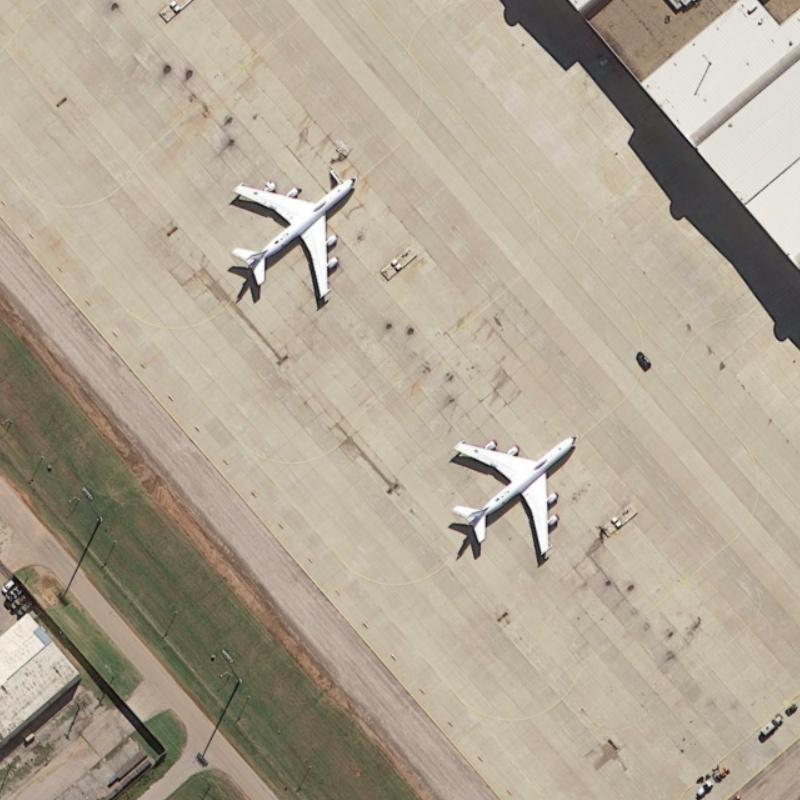A11: (225, 159, 358, 310), (442, 427, 583, 565)
